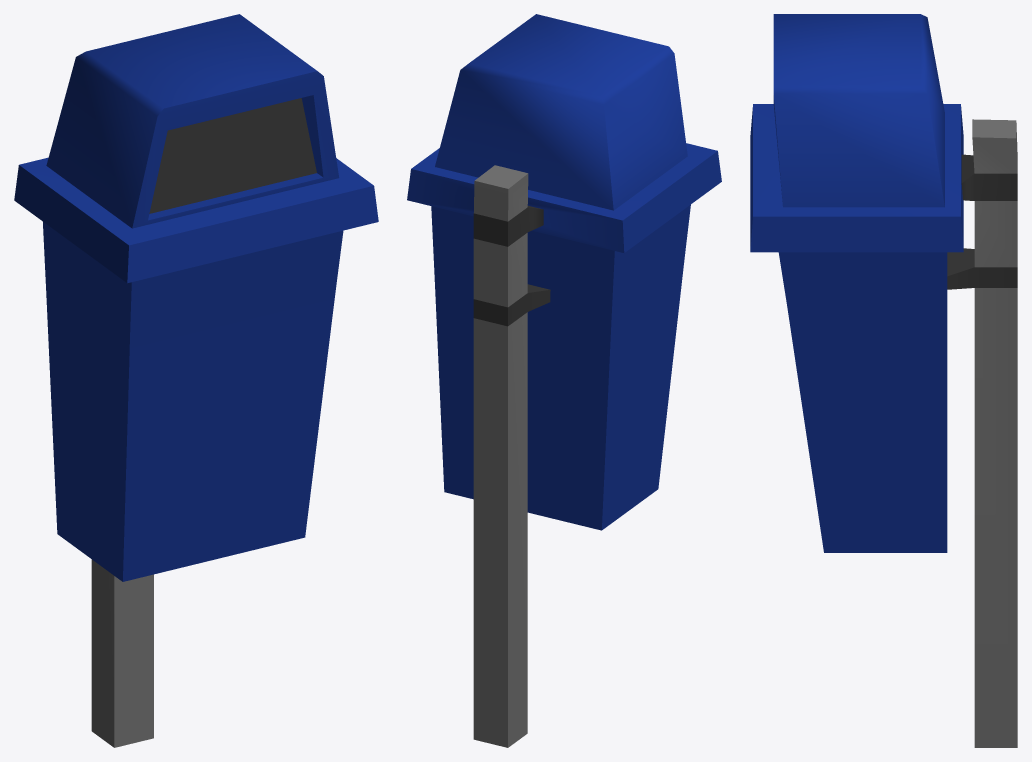
Rendered from Trash1.fbx.
3 renders of one model, left to right at view 1: azimuth 30°, elevation 25°; view 2: azimuth 150°, elevation 25°; view 3: azimuth 270°, elevation 25°, orthographic. The views are drawn at different scales.
Visible parts, largest first — view 1: Trash1; view 2: Trash1; view 3: Trash1.
Boxes of the visible parts, left/top/right/bottom form: Trash1: left=14, top=14, right=378, bottom=747; Trash1: left=407, top=14, right=721, bottom=747; Trash1: left=750, top=14, right=1017, bottom=747.
Bounding box in the file's own units: 59.67 × 166 × 58.24.
